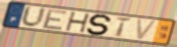E: (41, 9, 69, 31)
H: (64, 11, 92, 34)
S: (85, 13, 114, 36)
T: (115, 16, 133, 38)
U: (20, 5, 48, 29)
V: (136, 18, 160, 41)
